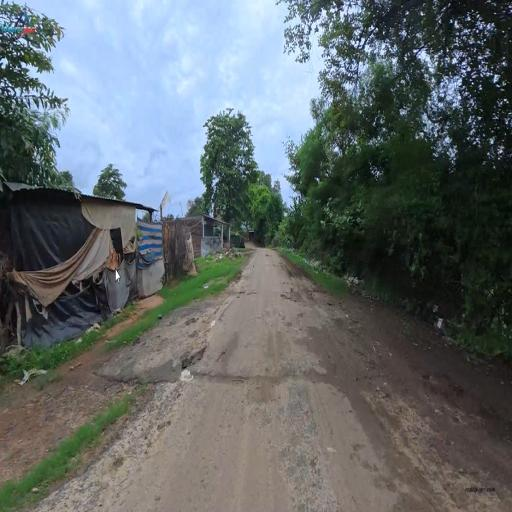longitudinal_crack: (159, 366, 341, 397)
